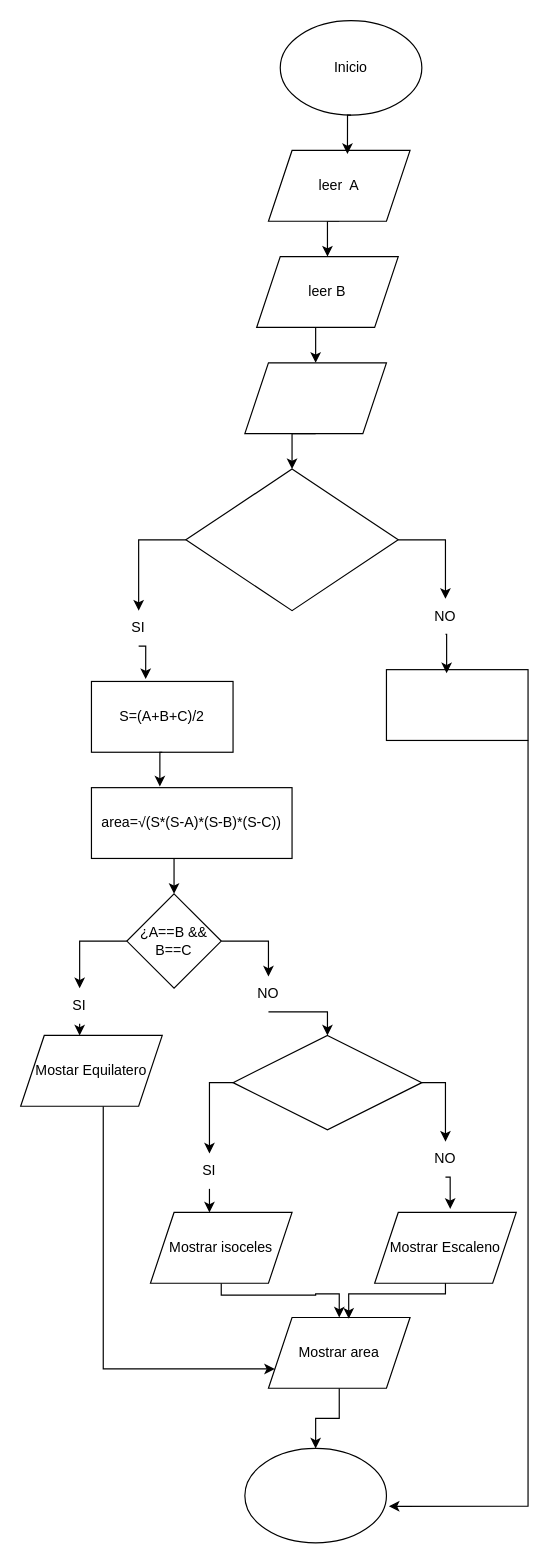
Some shapes in this 558 by 1563 pixel diagram are drawn without their labels. The centre of each missing label's shape, as x and y in pixels:
"A+B>C && A+C>B && B+C>A?" belongs at pixel 291 539.
"Fin" belongs at pixel 315 1495.
"leer C" belongs at pixel 315 398.
"No es un triangulo" belongs at pixel 456 704.
"¿A == B || A == C || B == C?" belongs at pixel 327 1082.
